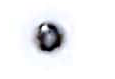cancer: (17, 7, 88, 70)
